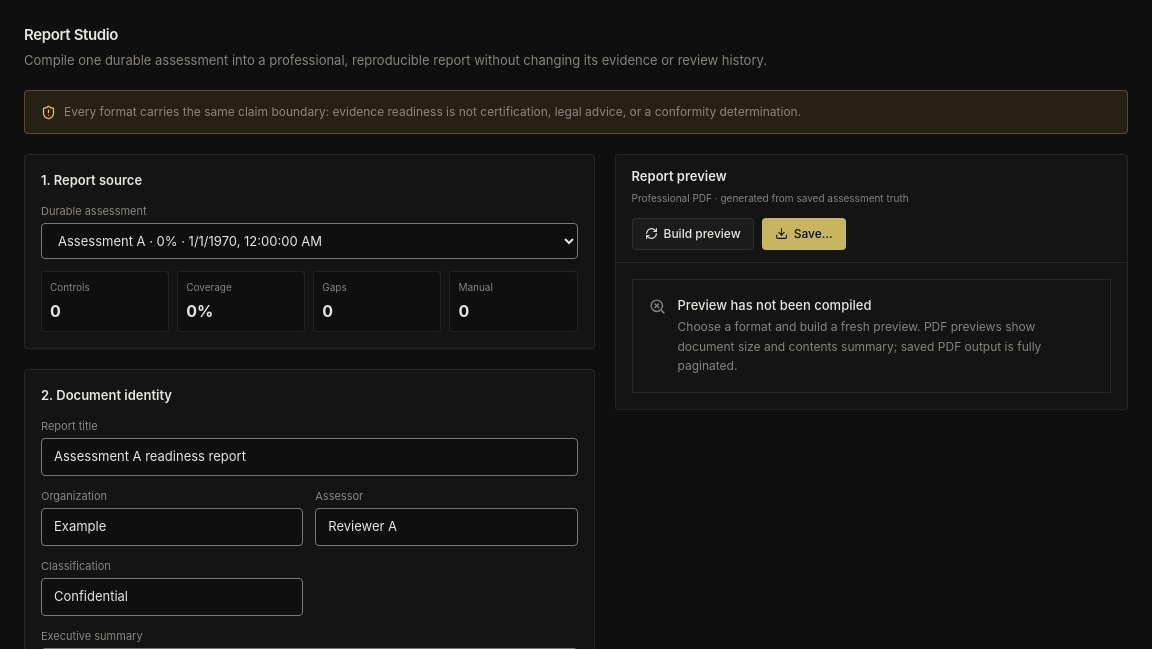
Test case: a submitted save does not mark changed A to B to A inputs as saved
This screenshot has width=1152, height=649.
Step 1. Click the button "Save…" → (804, 234), box [762,218,846,250]
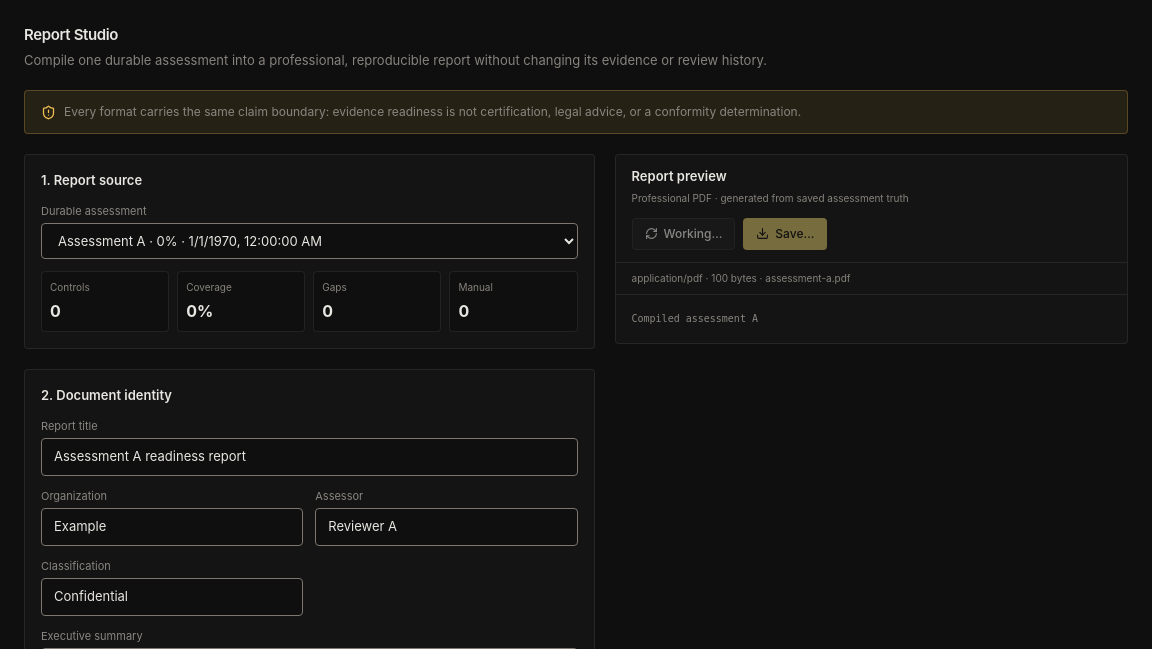
Step 2. Select "Assessment B · 0% · 1/1/1970, 12:00:00 AM" in the dropdown labelled "Durable assessment" → (309, 241), box [41,223,578,259]
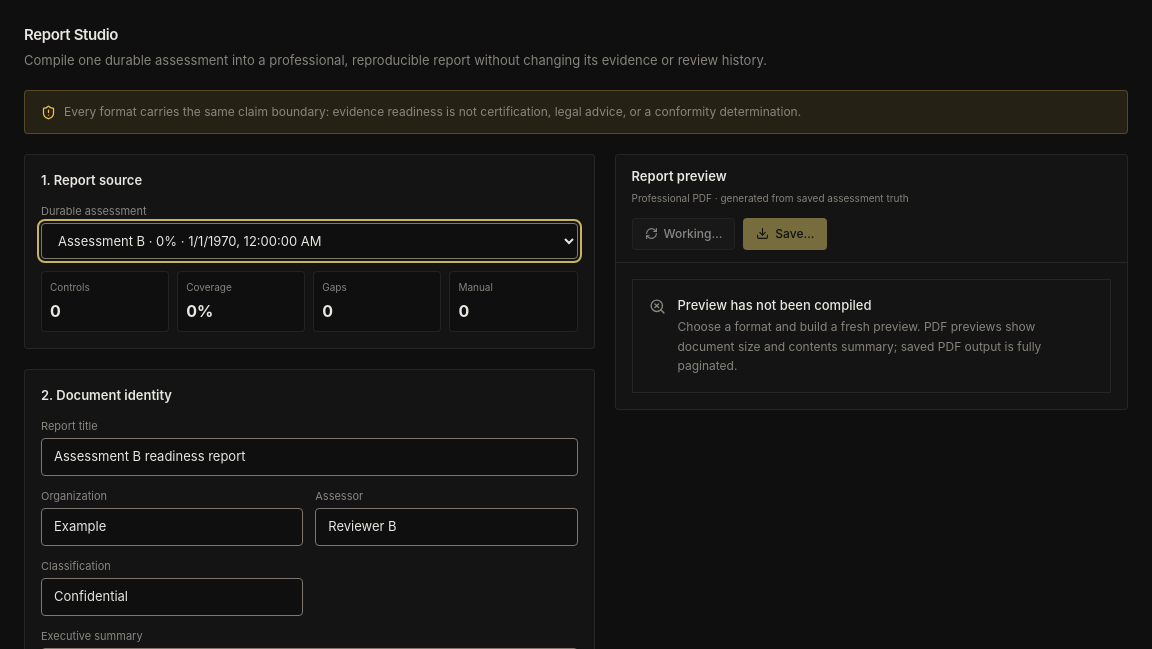
Step 3. Select "Assessment A · 0% · 1/1/1970, 12:00:00 AM" in the dropdown labelled "Durable assessment" → (309, 241), box [41,223,578,259]
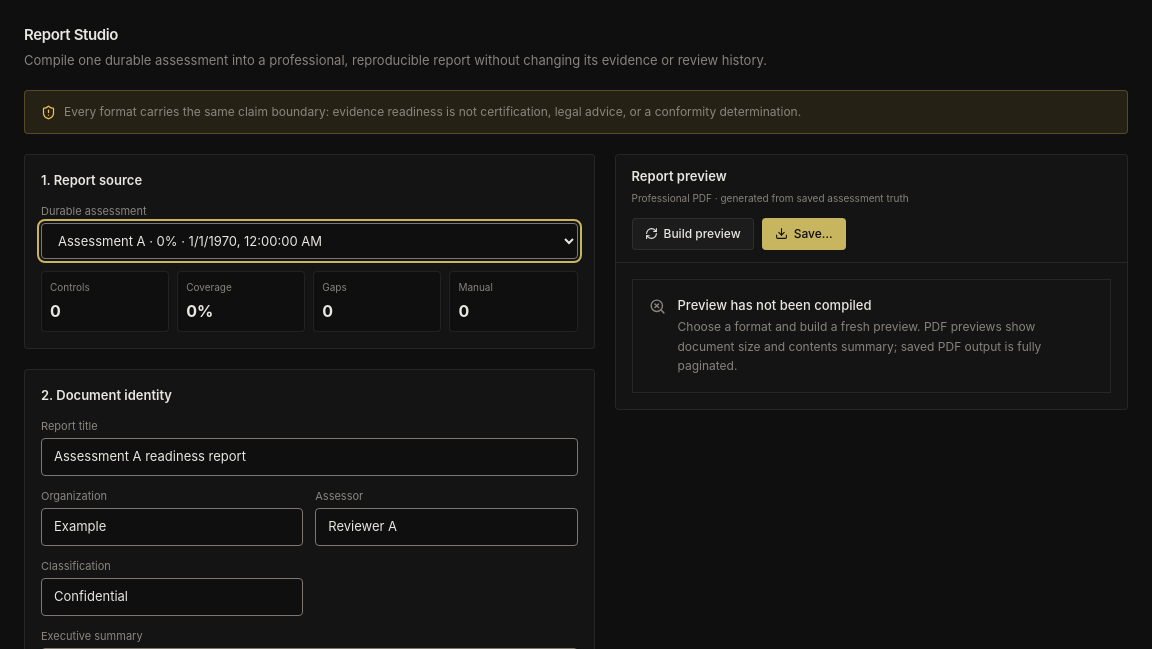
Result: the button "Save…" is enabled at [762,218,846,250]
